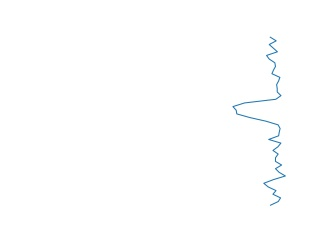interdistributaryEstuary: (228, 37, 293, 206)
